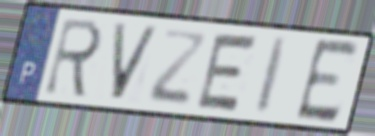E: (292, 36, 363, 126), (192, 30, 261, 115)
I: (252, 35, 292, 118)
R: (41, 15, 106, 101)
V: (110, 20, 162, 102)
Z: (145, 26, 210, 108)
